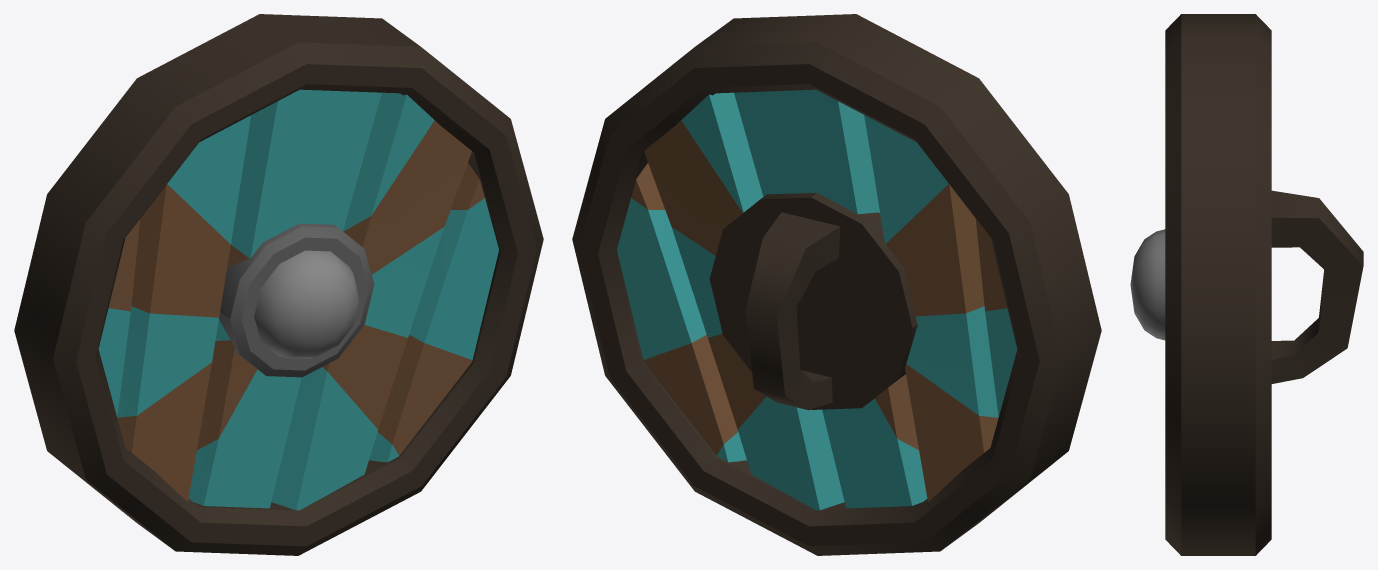
Rendered from Shield_4.fbx.
3 views of the same model, side by side, from view 1: azimuth 30°, elevation 25°; view 2: azimuth 150°, elevation 25°; view 3: azimuth 270°, elevation 25° (orthographic). The views are drawn at different scales.
Parts seen in each view (by area): view 1: Shield_4; view 2: Shield_4; view 3: Shield_4.
Boxes of the visible parts, bbox=[...] form: Shield_4: bbox=[14, 14, 543, 555]; Shield_4: bbox=[572, 14, 1101, 555]; Shield_4: bbox=[1130, 14, 1363, 555].
Bounding box in the file's own units: 80.25 × 80.25 × 34.37.
